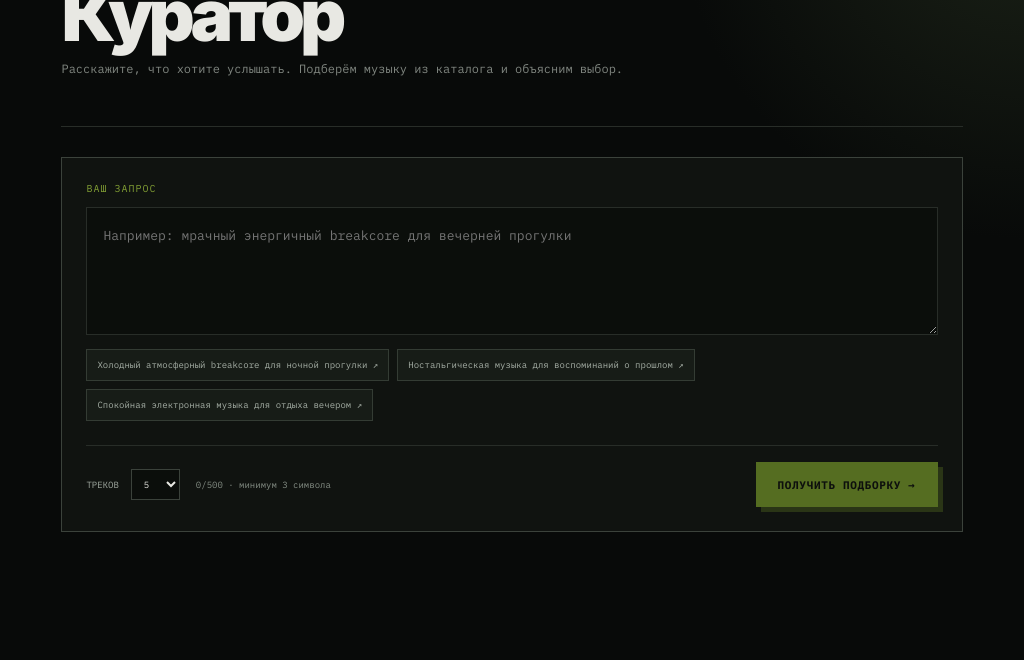
CuratorView › preserves the answer when a selected track becomes unavailable
Type "Холодная музыка для прогулки" into the text box labelled "ВАШ ЗАПРОС" at (512, 271), box [86,207,938,335]
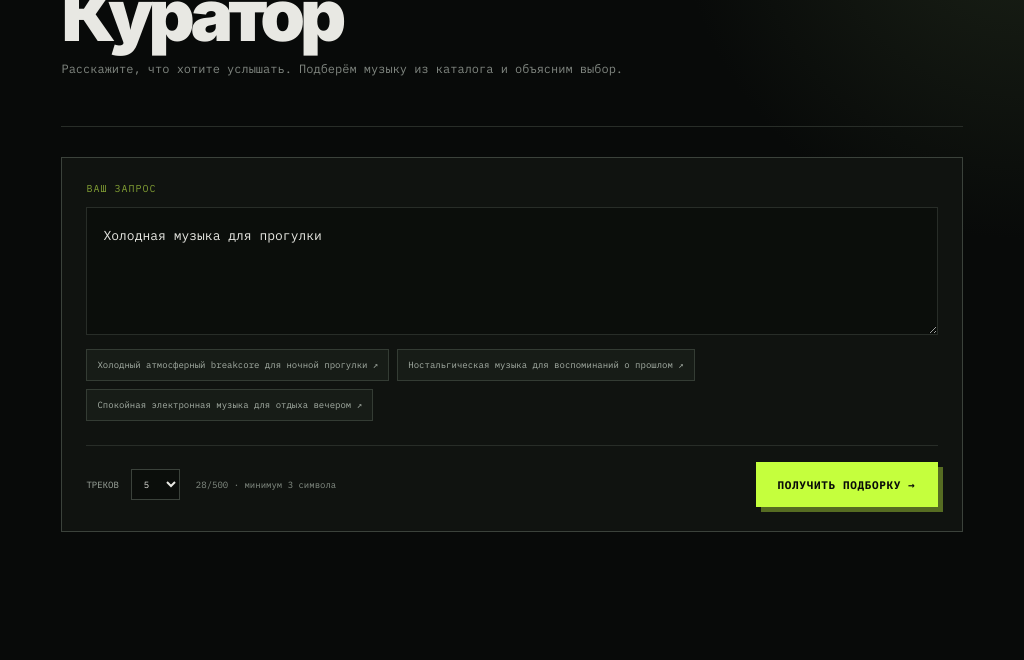
Click the button "ПОЛУЧИТЬ ПОДБОРКУ →" at (847, 485), box [756,462,938,507]
(page scrolled)
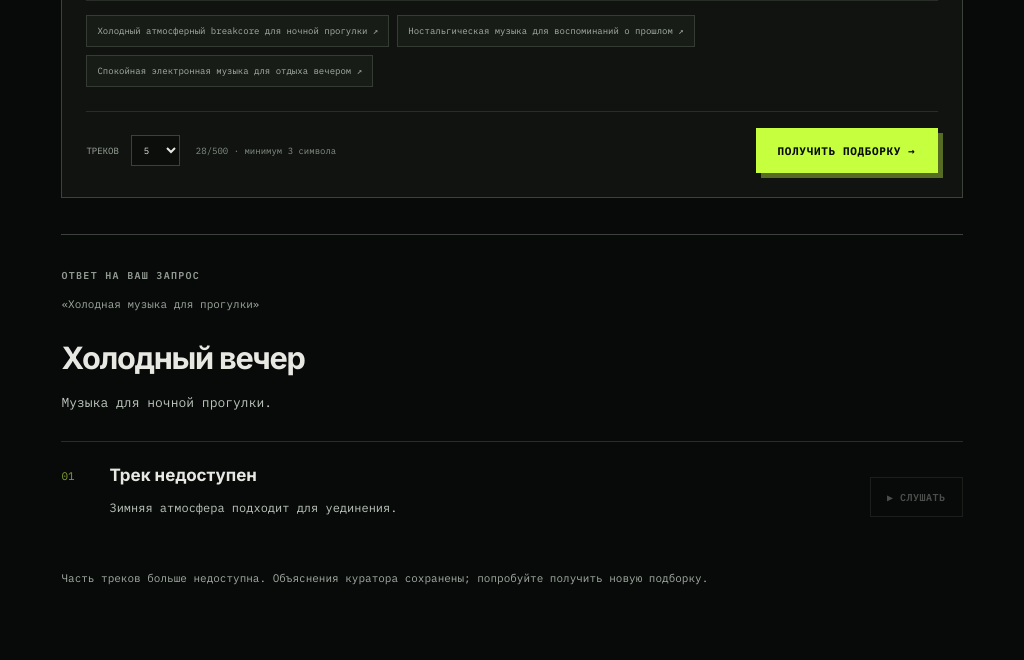
Check: the text "Трек недоступен" is shown, box [109,465,257,485]
Check: the text "Зимняя атмосфера подходит для уединения." is shown, box [109,500,397,515]
Check: the button with aria-label "Слушать трек" is disabled, box [870,477,962,517]
